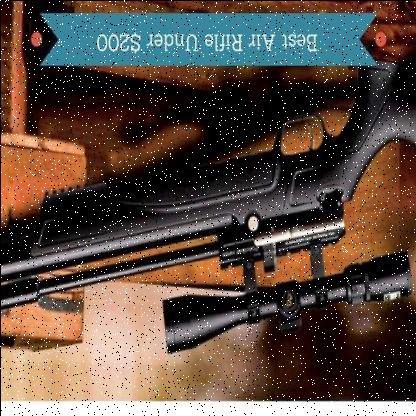rifle: (11, 73, 408, 364)
